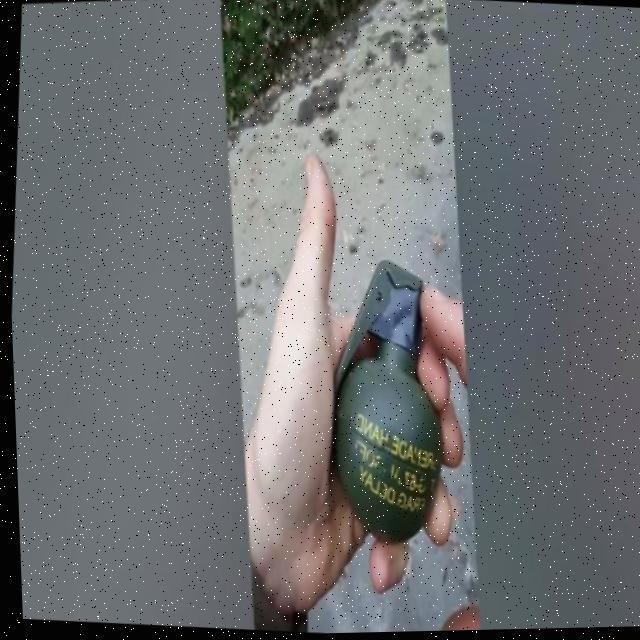grenade: (295, 257, 460, 549)
